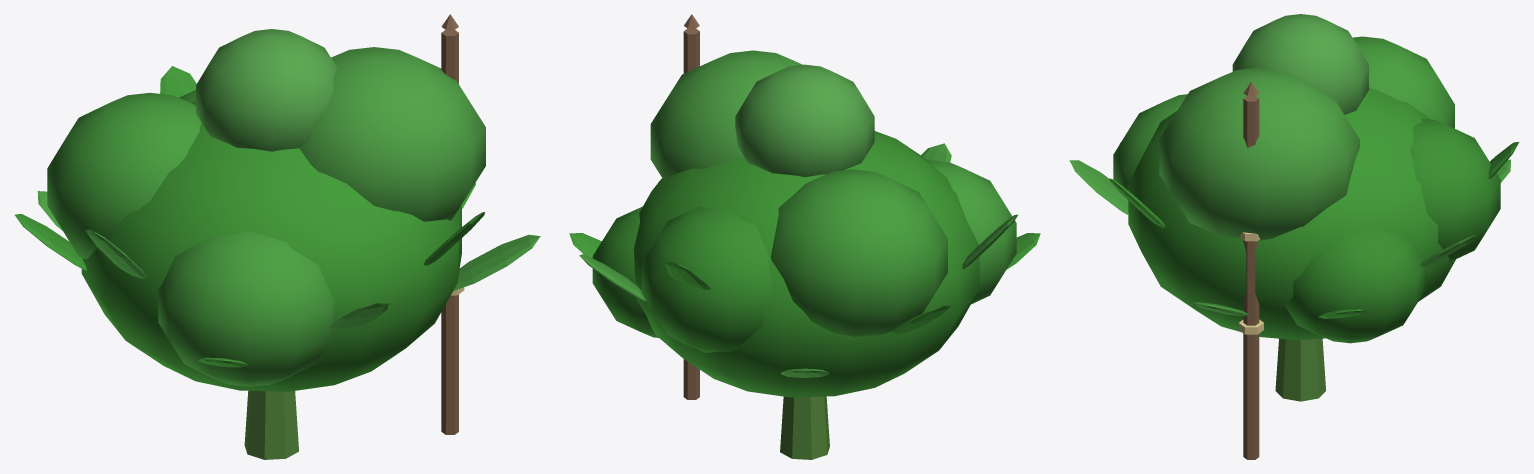
The model's file is Planta_Pepper.fbx.
The picture shows the model from 3 angles, left to right: view 1: azimuth 30°, elevation 25°; view 2: azimuth 150°, elevation 25°; view 3: azimuth 270°, elevation 25°; orthographic projection. The views are drawn at different scales.
Visible parts, largest first — view 1: Corpo_Pepper; view 2: Corpo_Pepper; view 3: Corpo_Pepper.
Boxes of the visible parts, bbox=[...] form: Corpo_Pepper: bbox=[14, 14, 540, 459]; Corpo_Pepper: bbox=[569, 14, 1040, 459]; Corpo_Pepper: bbox=[1069, 14, 1519, 459].
Bounding box in the file's own units: 2.86 × 2.61 × 2.84.
1 material, 1 textured.
